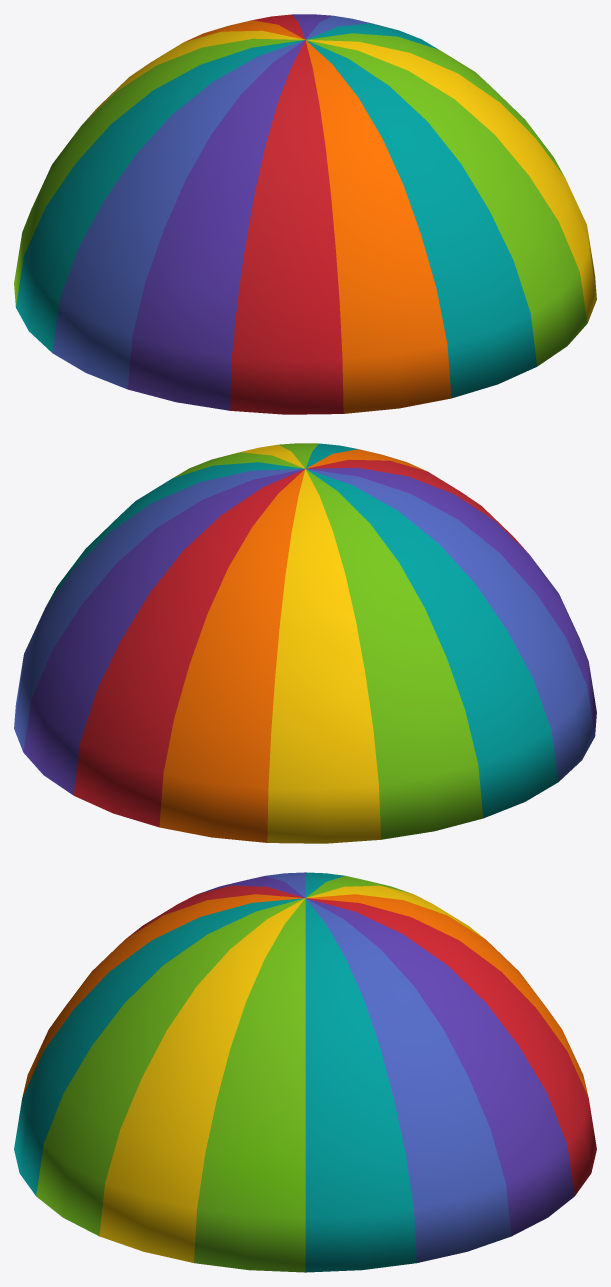
The model's file is face-raiders-hat.fbx.
The picture shows the model from 3 angles, top to bottom: view 1: azimuth 30°, elevation 25°; view 2: azimuth 150°, elevation 25°; view 3: azimuth 270°, elevation 25°; orthographic projection.
Visible parts, largest first — view 1: Sphere.001; view 2: Sphere.001; view 3: Sphere.001.
Part boxes in pixels (x1,y1,x2,y2): Sphere.001: (14, 14, 596, 414); Sphere.001: (14, 443, 596, 843); Sphere.001: (14, 872, 596, 1272).
Bounding box in the file's own units: 294 × 141 × 294.
